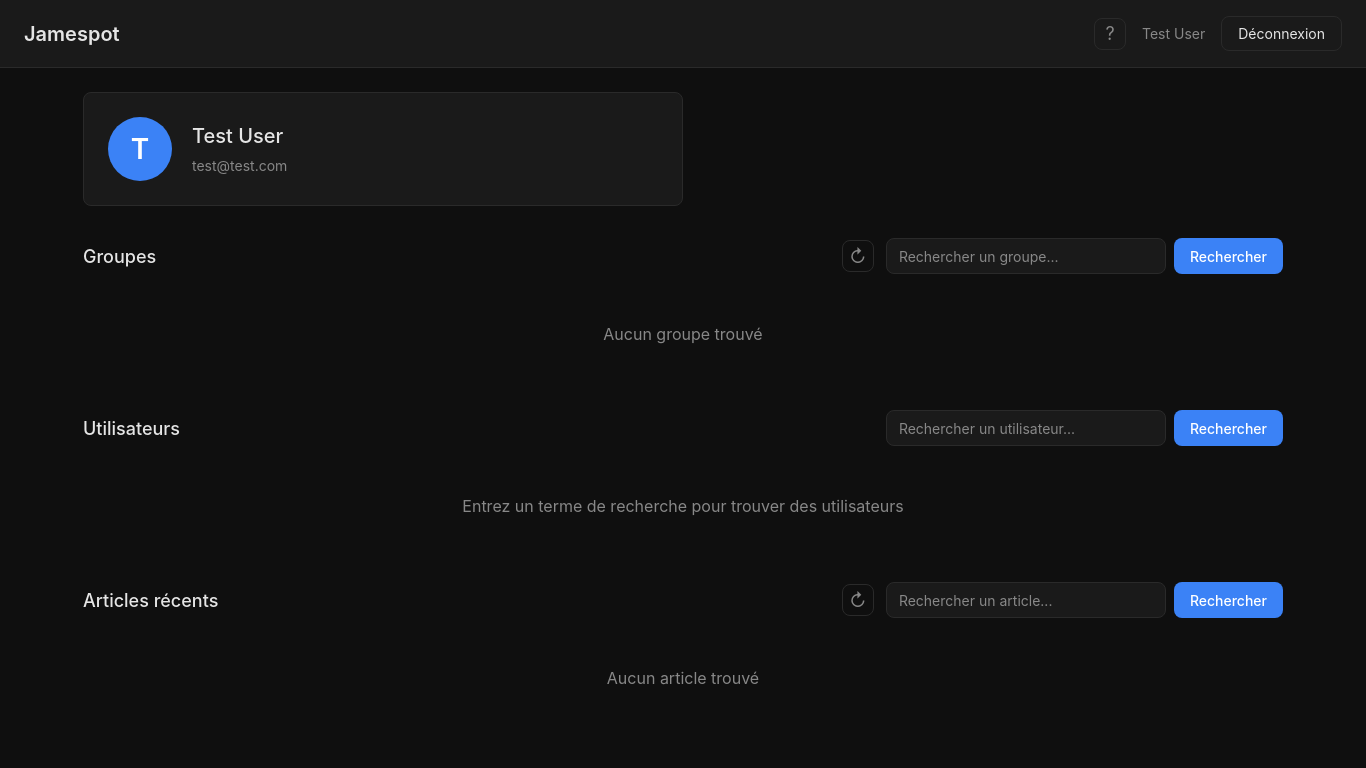
Dashboard › displays search results
Type "john" into the field with placeholder "Rechercher un utilisateur..." at (1026, 428), box [886, 410, 1166, 446]
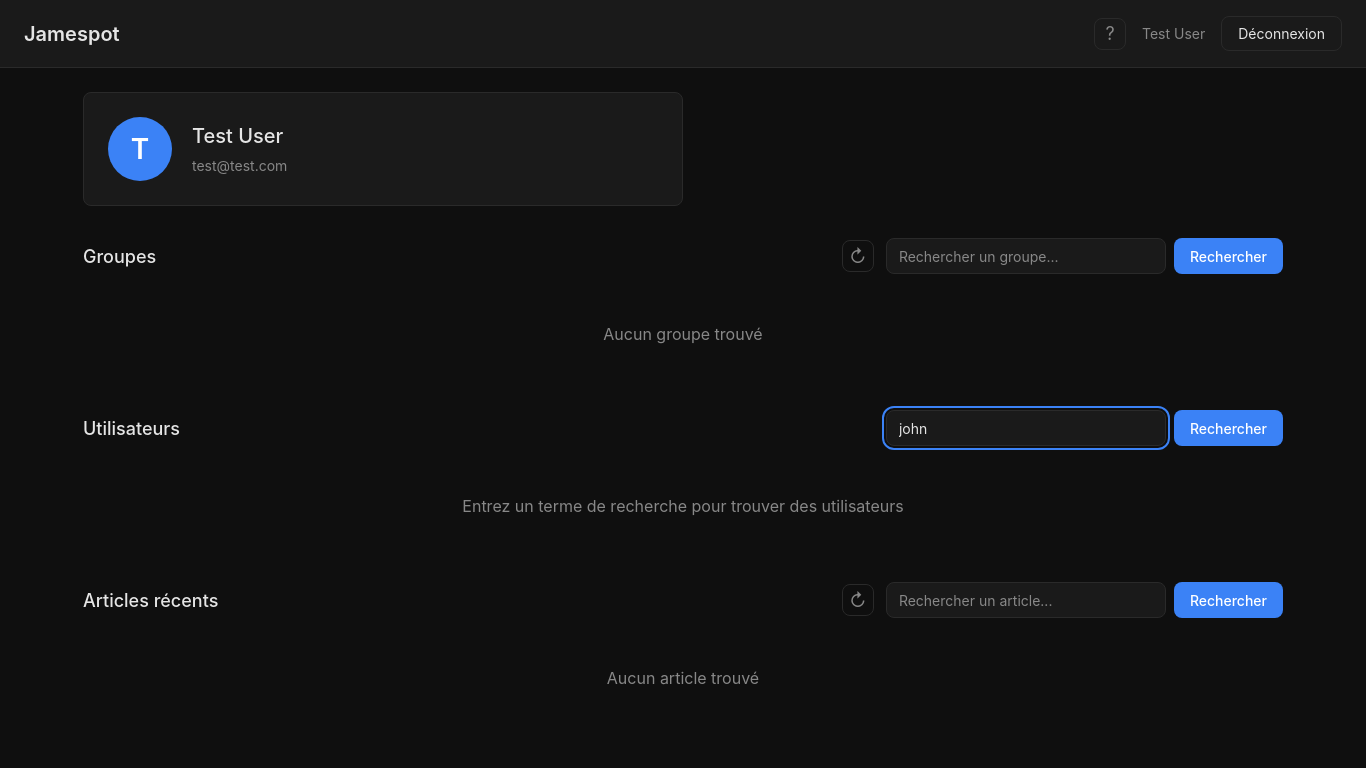
Click the 2nd button "Rechercher" at (1228, 428), box [1174, 410, 1283, 446]
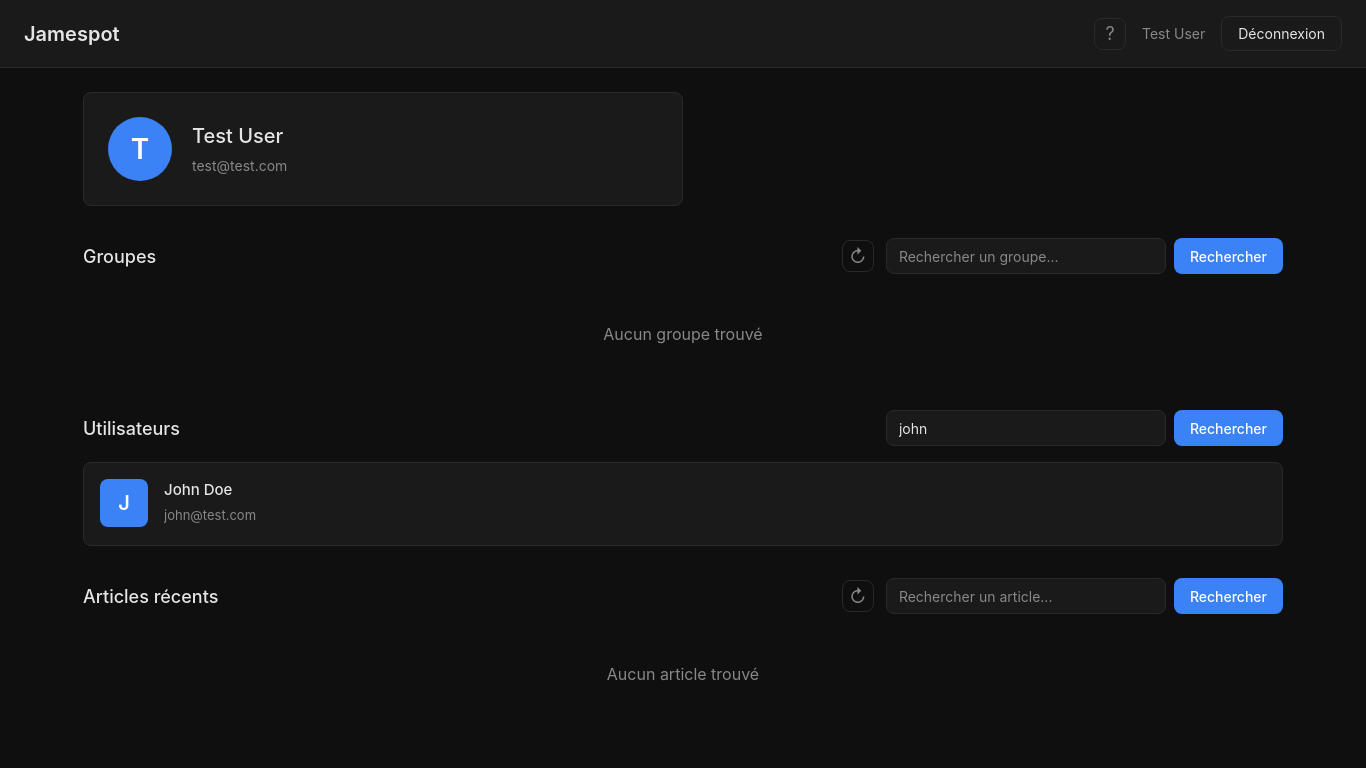
Check: the heading "John Doe" is shown, box [164, 480, 232, 499]
Check: the text "john@test.com" is shown, box [164, 506, 256, 522]
